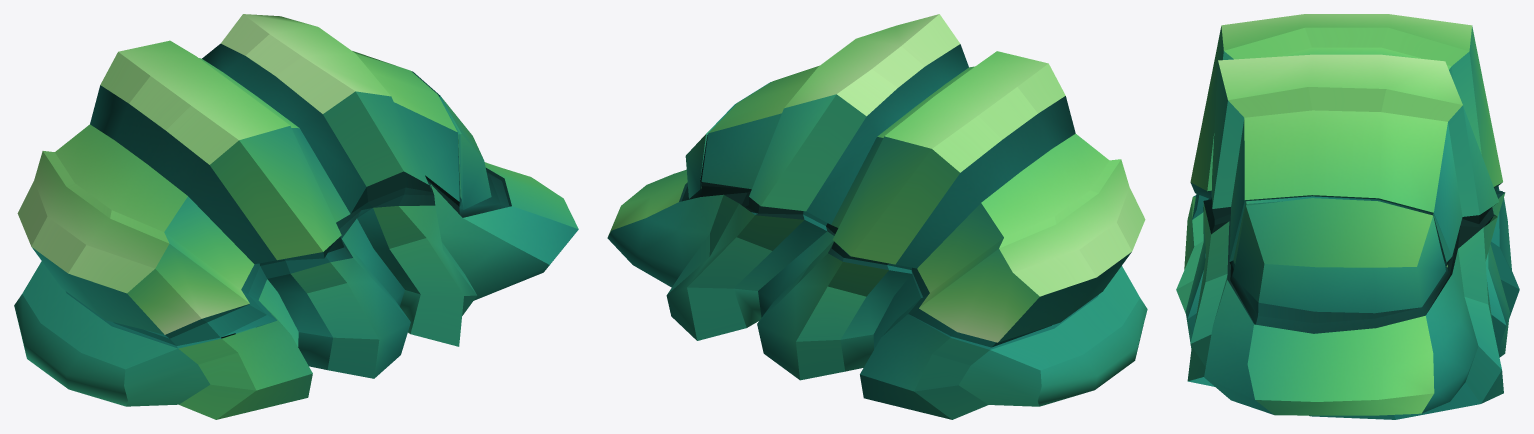
Rendered from Rock_02_T1.FBX.
The picture shows the model from 3 angles, left to right: view 1: azimuth 30°, elevation 25°; view 2: azimuth 150°, elevation 25°; view 3: azimuth 270°, elevation 25°; orthographic projection. The views are drawn at different scales.
Parts seen in each view (by area): view 1: Rock_02; view 2: Rock_02; view 3: Rock_02.
Part boxes in pixels (left/top/right/bottom): Rock_02: left=14, top=14, right=578, bottom=419; Rock_02: left=607, top=14, right=1147, bottom=419; Rock_02: left=1176, top=14, right=1519, bottom=419.
Bounding box in the file's own units: 2.66 × 1.47 × 1.52.
Materials: 1 (1 with a texture image).
